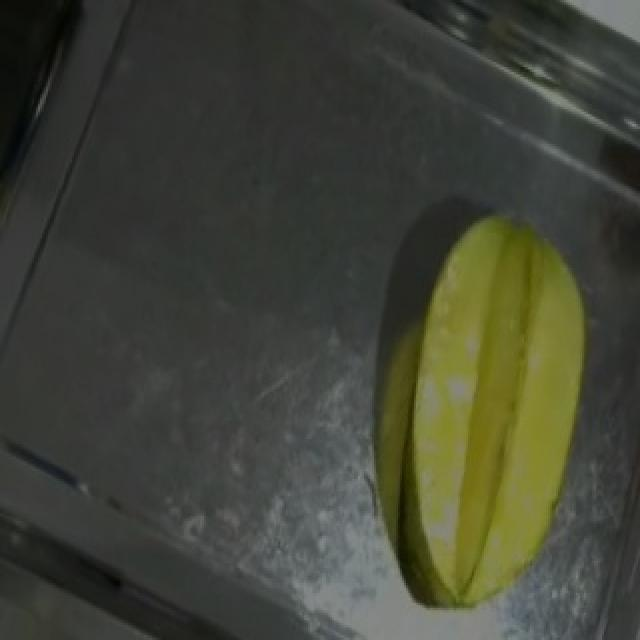fruit: (384, 184, 640, 578)
